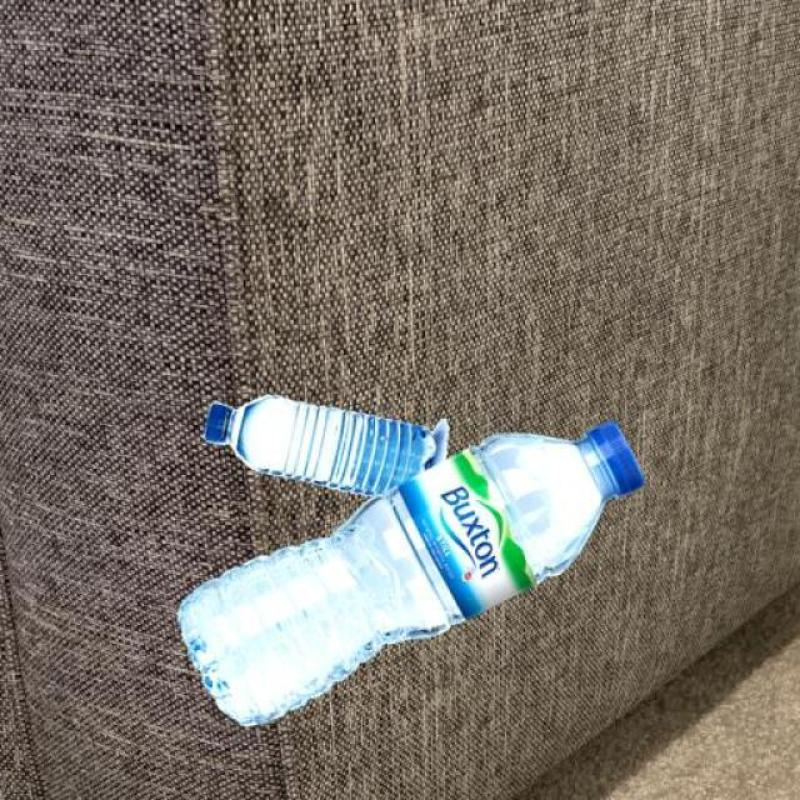botella: (175, 422, 649, 728), (204, 393, 436, 497)
